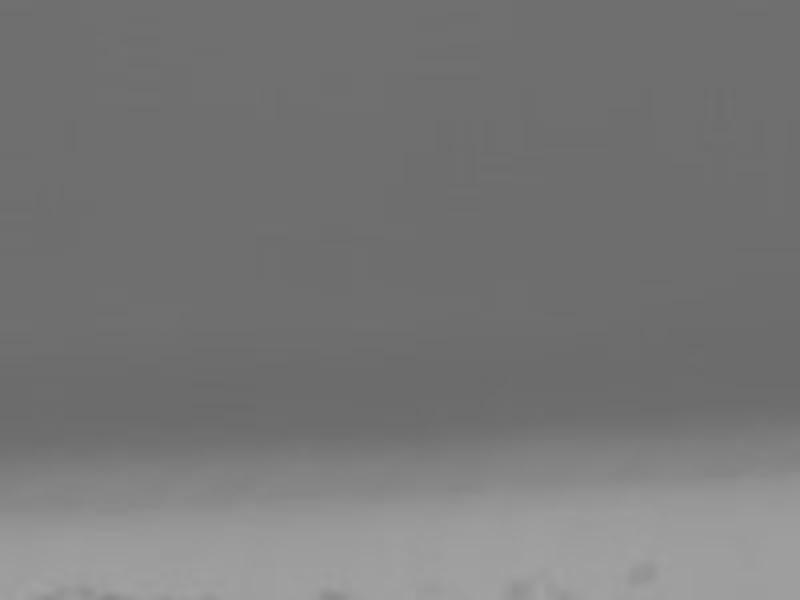defect: (44, 587, 126, 599), (632, 562, 664, 590), (504, 580, 541, 596), (319, 586, 355, 599)
